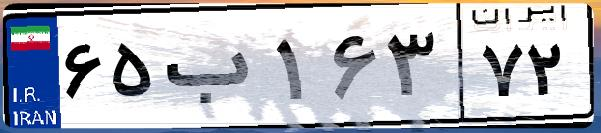1: (270, 28, 330, 110)
2: (525, 38, 570, 115)
3: (385, 28, 445, 110)
5: (110, 28, 158, 98)
6: (330, 28, 385, 110), (57, 26, 110, 100)
7: (475, 38, 525, 113)
ب: (158, 20, 270, 120)
